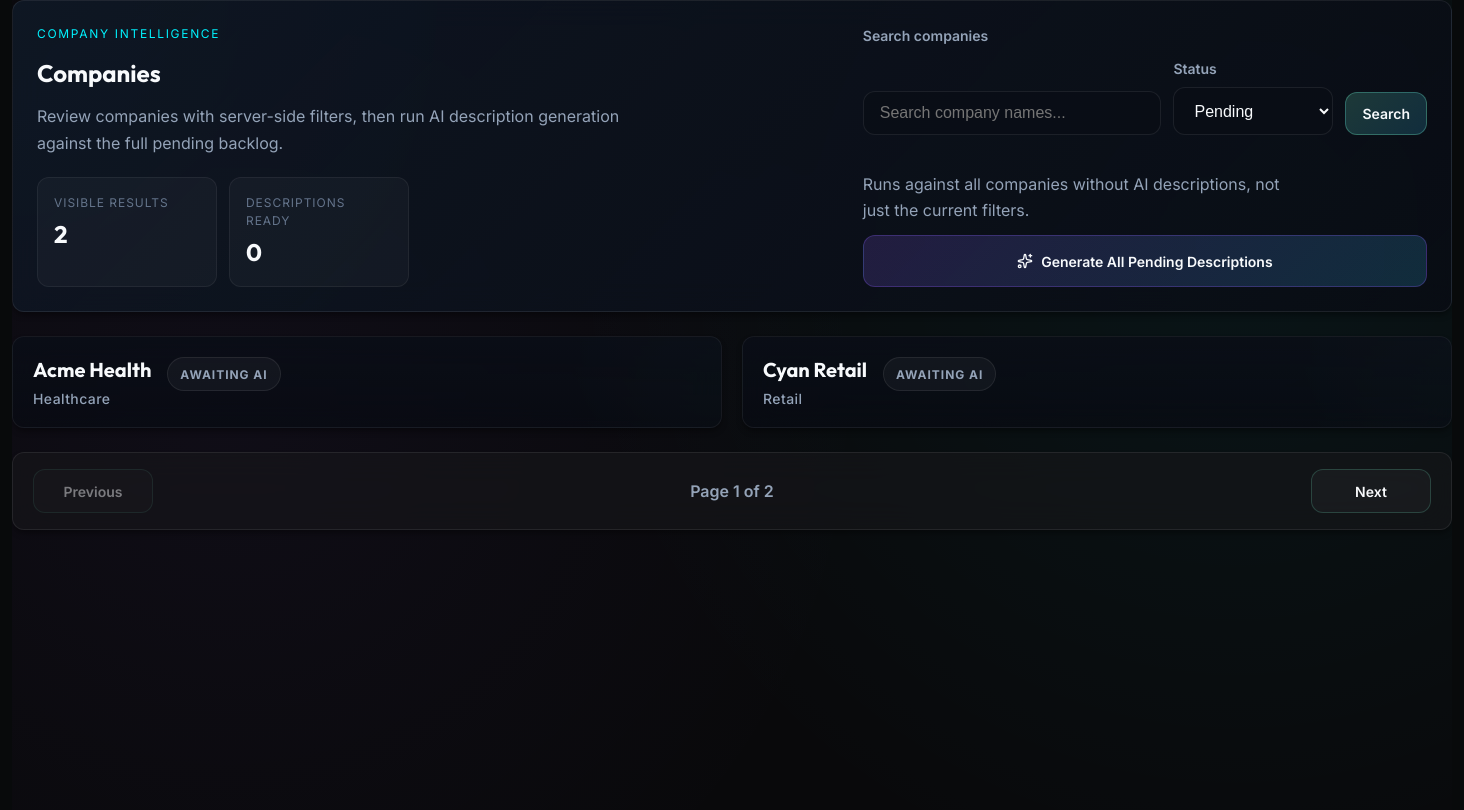
Test: CompaniesPage › shows the run failure reason when a terminal run completes with failures
Check: the heading "Acme Health" is shown, box [33,357,151,382]
Click the button "Generate All Pending Descriptions". click: (1145, 261)
box: [863,235,1427,287]
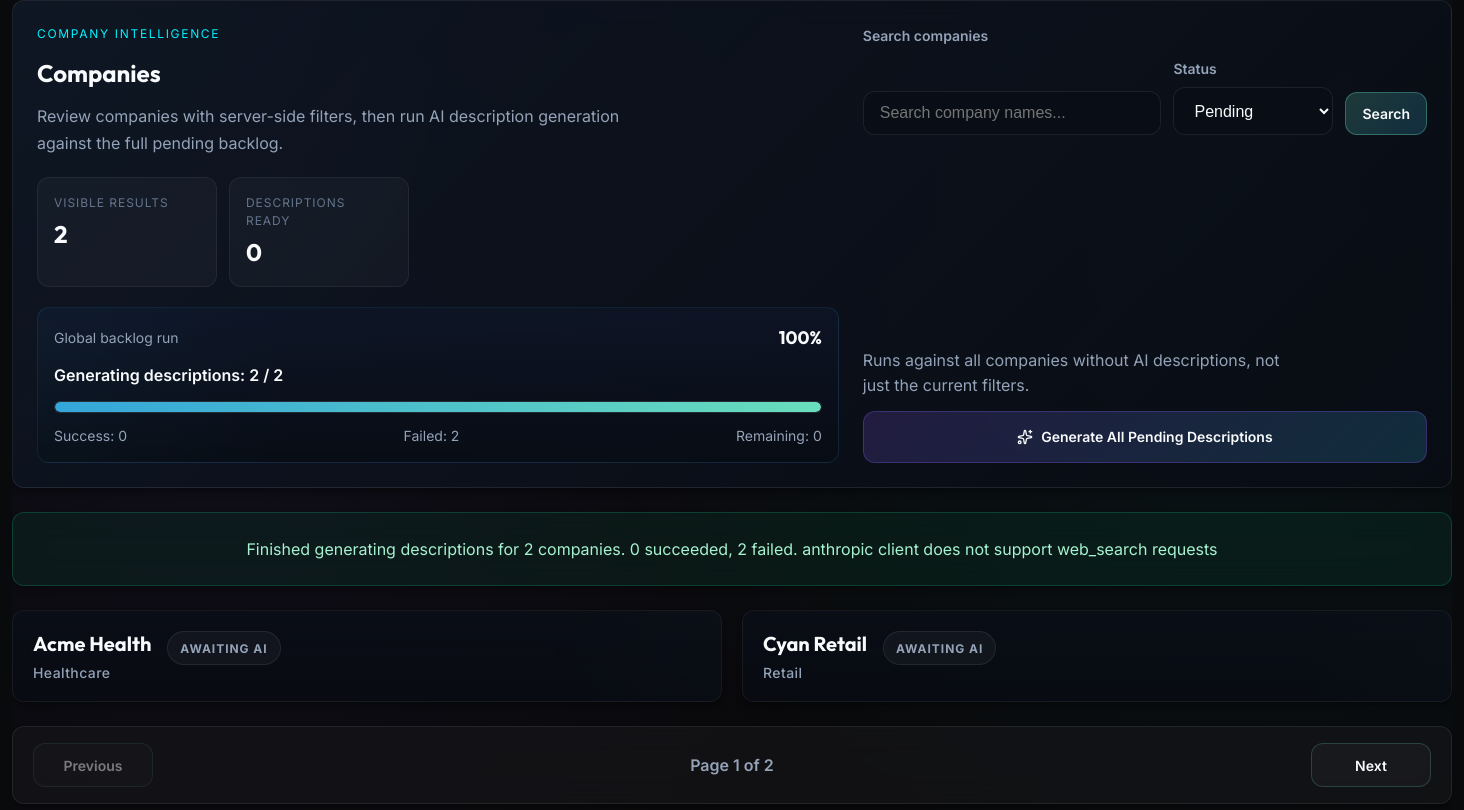
Check: the text "anthropic client does not support web_search requests" is shown, box [246,539,1218,559]
